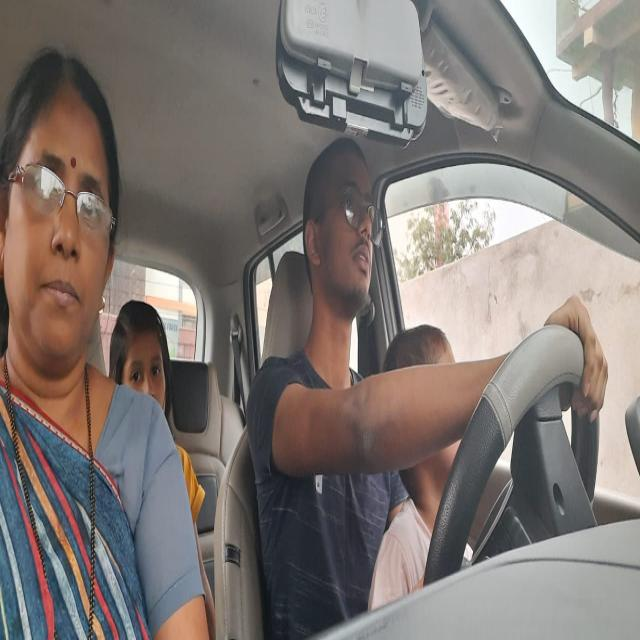person: (1, 42, 120, 383), (302, 128, 379, 340), (386, 324, 462, 502), (111, 287, 174, 437)
